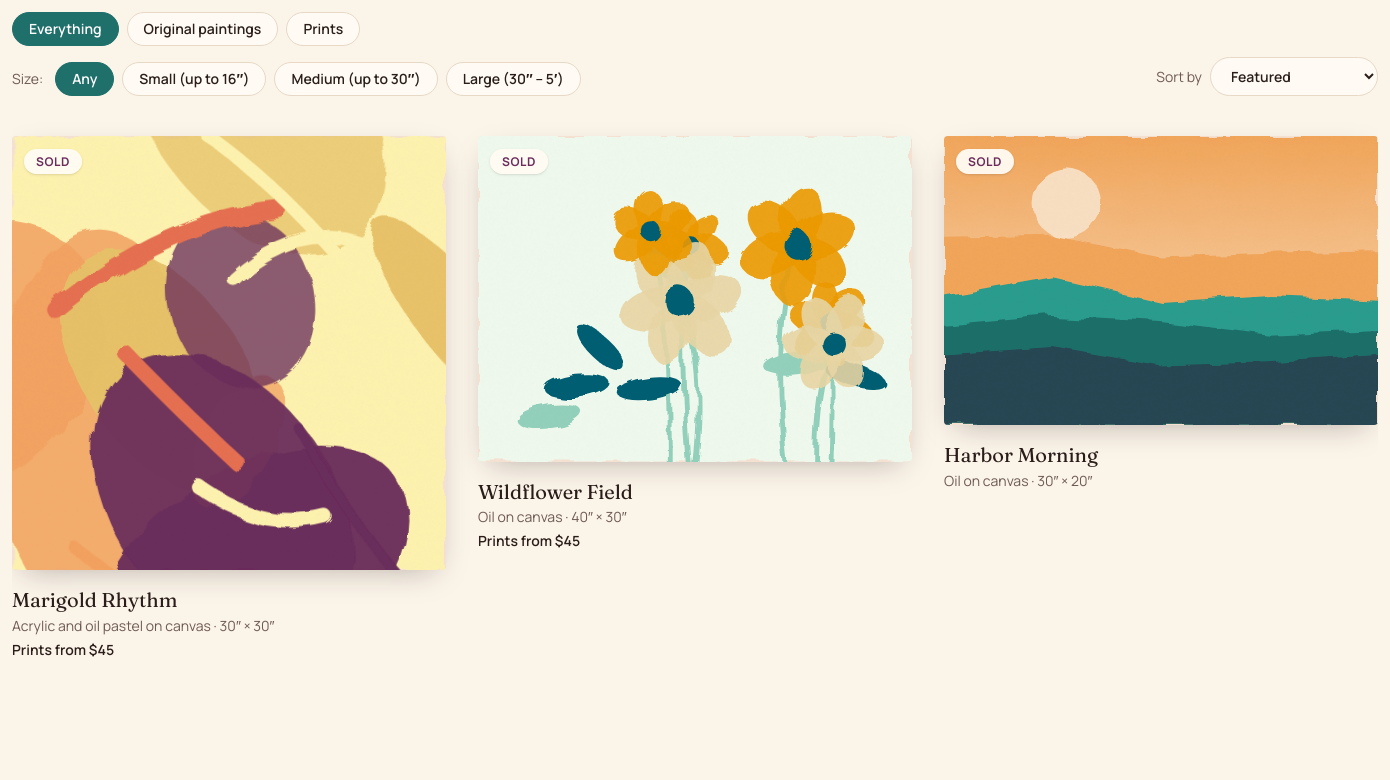
ShopBrowser › says when nothing matches the filters
Click the button "Original paintings": (202, 29) [126,12,278,46]
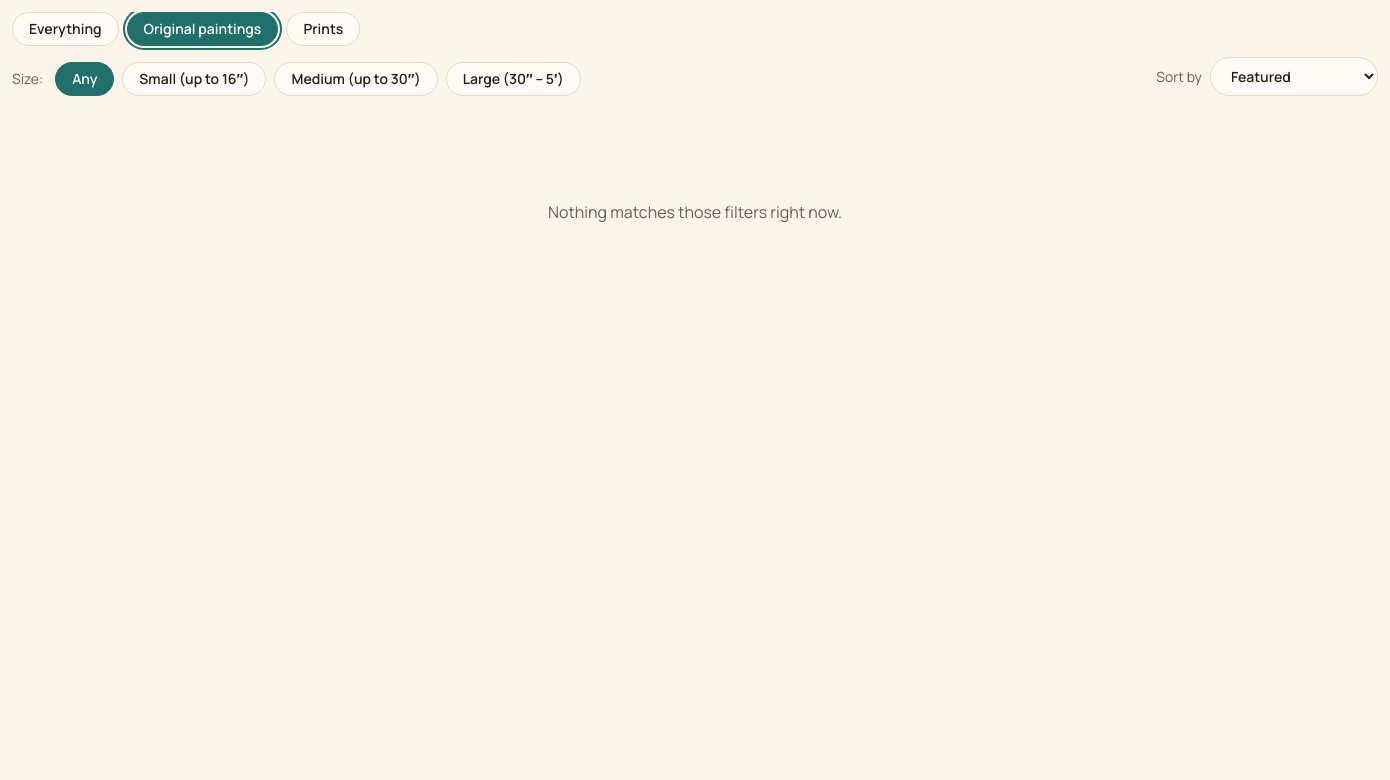
Expected: the text "Nothing matches those filters right now." is shown, [548,201,842,223]
